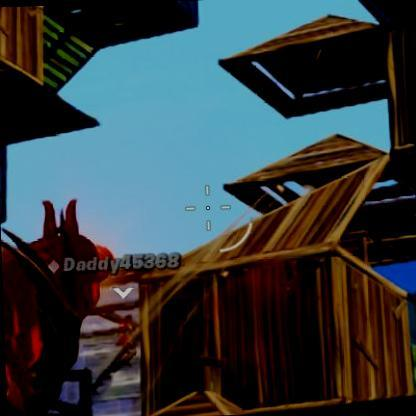person: (118, 315, 134, 357)
